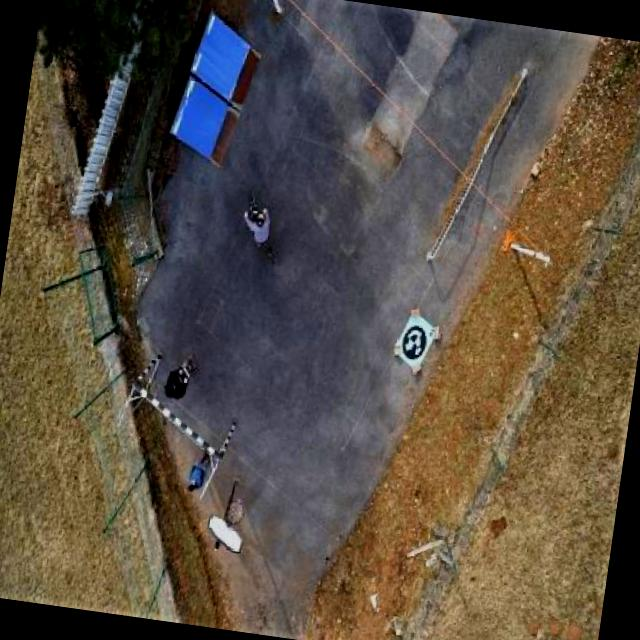Person: (162, 344, 205, 407), (240, 200, 279, 252), (182, 452, 215, 499)
